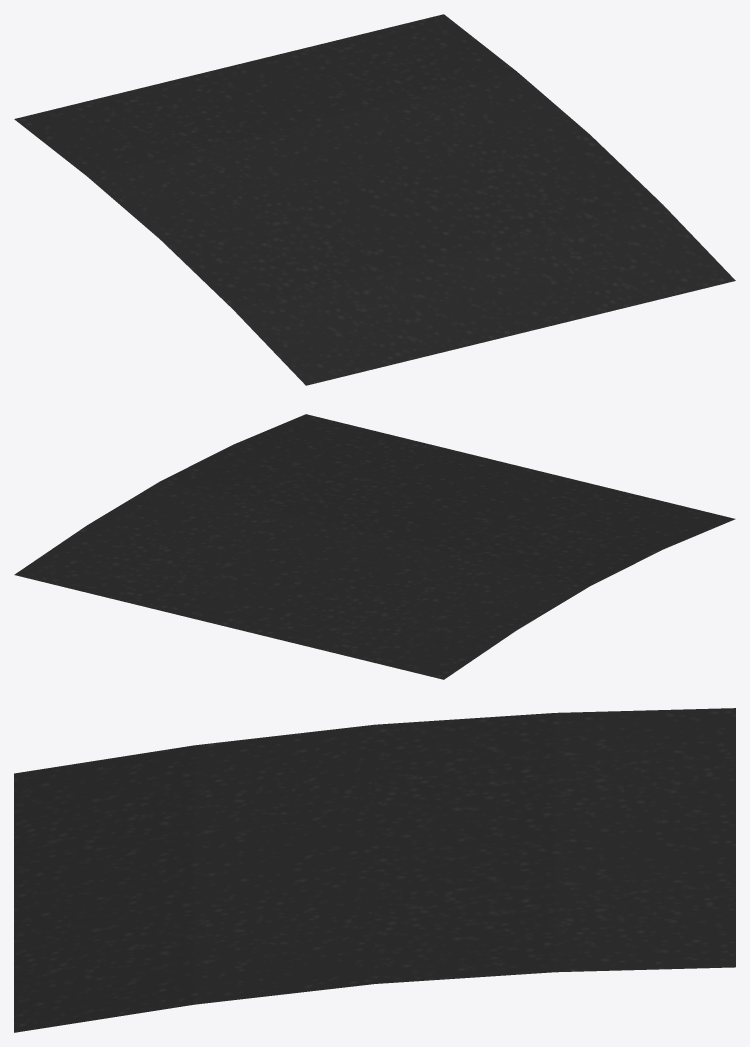
The model's file is SW_ENV_RailBase_Riser_B_Double_10m.fbx.
3 renders of one model, top to bottom at view 1: azimuth 30°, elevation 25°; view 2: azimuth 150°, elevation 25°; view 3: azimuth 270°, elevation 25°, orthographic. The views are drawn at different scales.
Parts seen in each view (by area): view 1: SW_ENV_RailBase_Riser_B_Double_10m; view 2: SW_ENV_RailBase_Riser_B_Double_10m; view 3: SW_ENV_RailBase_Riser_B_Double_10m.
Boxes of the visible parts, x1=… form: SW_ENV_RailBase_Riser_B_Double_10m: x1=14, y1=14, x2=735, y2=385; SW_ENV_RailBase_Riser_B_Double_10m: x1=14, y1=414, x2=735, y2=679; SW_ENV_RailBase_Riser_B_Double_10m: x1=14, y1=708, x2=735, y2=1032.
Bounding box in the file's own units: 850 × 100 × 1000.
